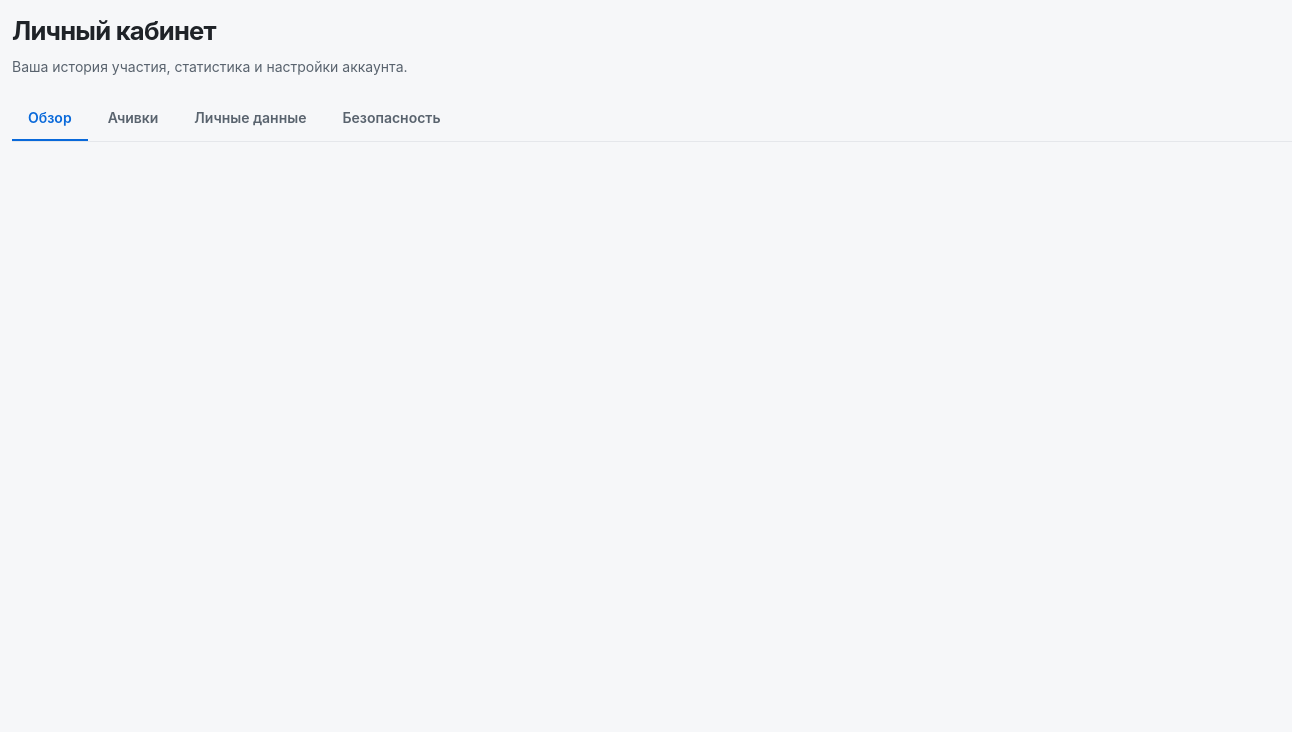
announces a failed save as an error alert and preserves the draft
The image size is (1292, 732).
Click the button "Личные данные": (250, 119) left=178, top=97, right=322, bottom=141
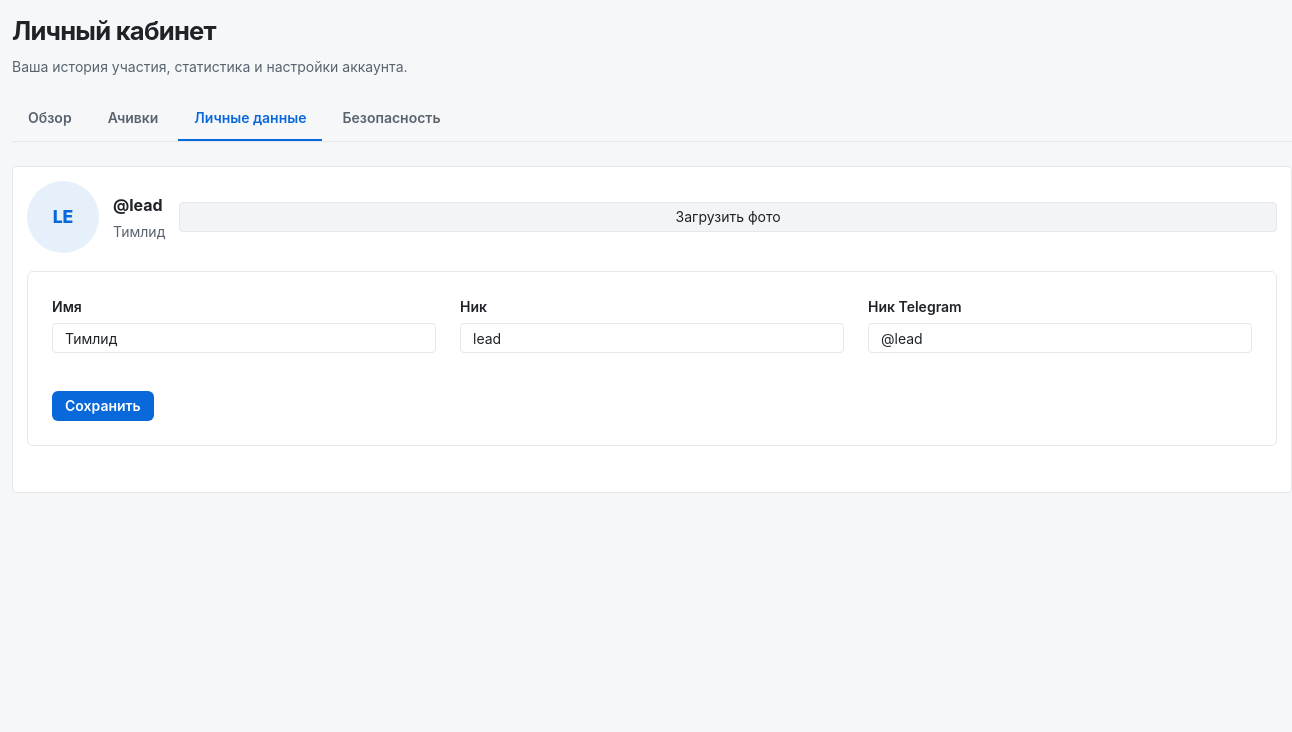
Replace the text in the field labelled "Ник" with "occupied": (652, 338) left=460, top=323, right=844, bottom=353
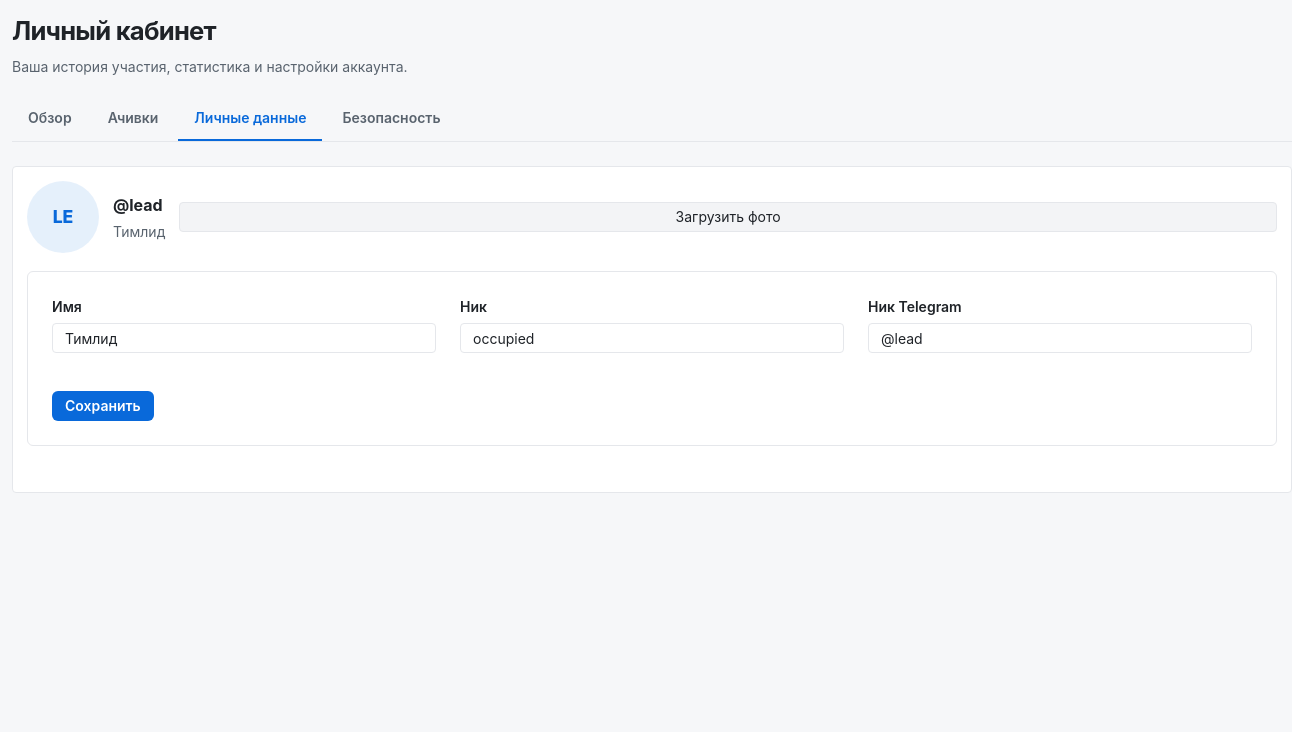
Click the button "Сохранить": (103, 406) left=52, top=391, right=154, bottom=421
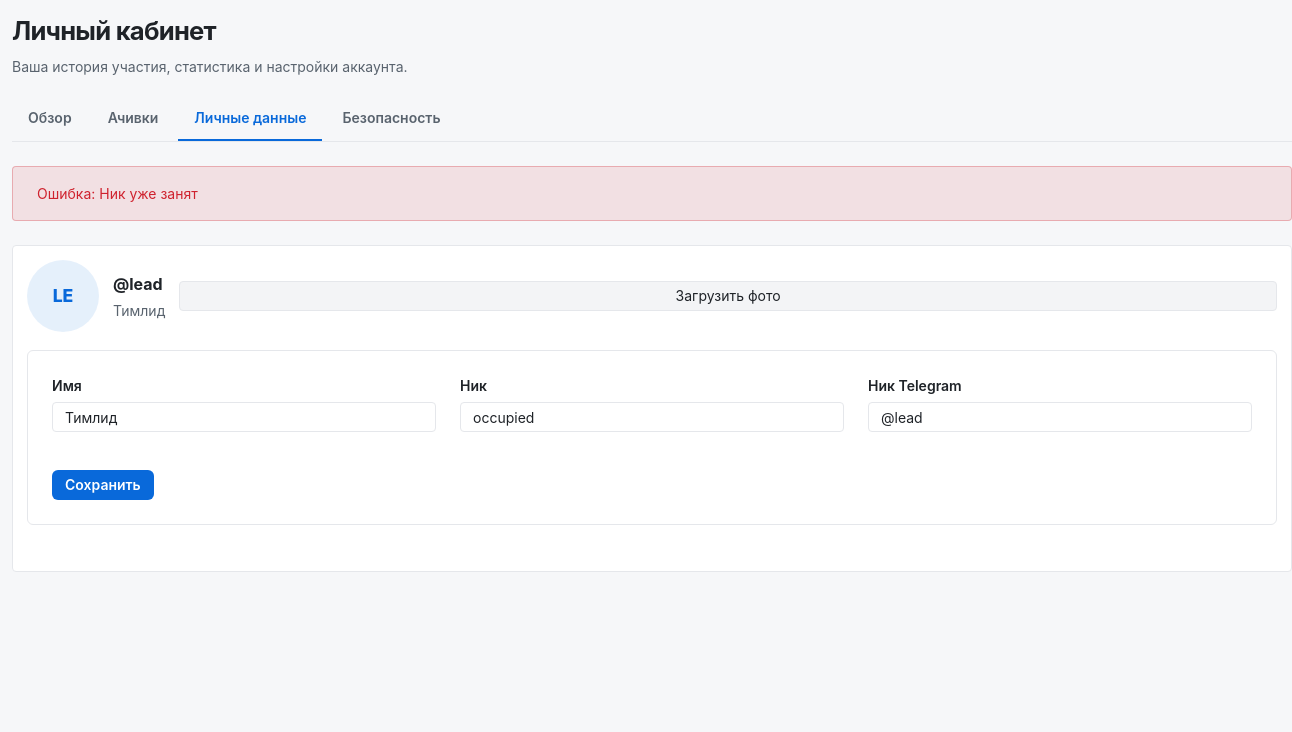
Check: the message reads "Ошибка: Ник уже занят", box left=37, top=185, right=198, bottom=202
